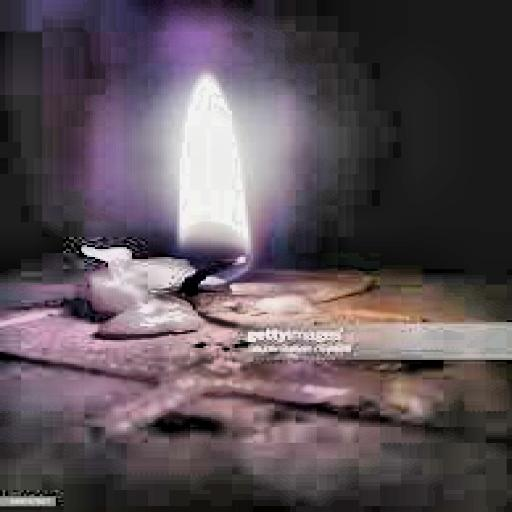fire: (166, 65, 274, 277)
